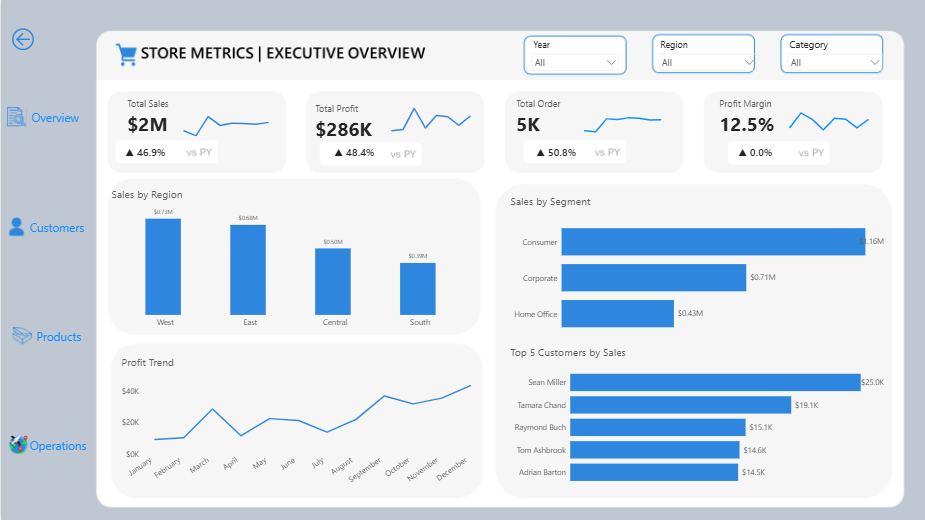

This screenshot's page, from the dashboard's own definition file:
{"tool":"powerbi","page":{"name":"Executive Overview","canvas":[1920,1080],"ordinal":0},"visuals":[{"type":"group","id":"g1","title":"Group 1","box":[244.1,185.8,323.9,116.6],"z":0},{"type":"cardVisual","fields":{"Data":["Dax Measures.Total Sales"]},"box":[244.1,185.8,218.2,116.6],"z":0,"group":"g1"},{"type":"cardVisual","fields":{"Data":["Dax Measures.Profit Margin"]},"box":[1471,185.8,218.2,116.6],"z":0,"group":"g2"},{"type":"cardVisual","fields":{"Data":["Dax Measures.Total Order"]},"box":[1051.9,185.8,218.2,116.6],"z":1000,"group":"g3"},{"type":"cardVisual","fields":{"Data":["Dax Measures.YOY Sales"]},"box":[222.5,272.2,196.6,88.6],"z":1000},{"type":"cardVisual","fields":{"Data":["Dax Measures.Total Profit"]},"box":[633.4,197.9,217.7,116.3],"z":2000,"group":"g4"},{"type":"cardVisual","fields":{"Data":["Dax Measures.YOY Profit Margin"]},"box":[1492.6,272.2,196.6,88.6],"z":2000},{"type":"cardVisual","fields":{"Data":["Dax Measures.YOY Order"]},"box":[1073.5,272.2,196.6,88.6],"z":3000},{"type":"lineChart","fields":{"Y":["Dax Measures.Total Sales"],"Category":["Orders.Order Date.Variation.Date Hierarchy.Month"]},"box":[365.1,216.1,202.9,74.2],"z":3001,"group":"g1"},{"type":"cardVisual","fields":{"Data":["Dax Measures.YOY Profit"]},"box":[654.5,272.2,196.6,88.6],"z":4000},{"type":"lineChart","title":"Profit Trend","fields":{"Category":["Orders.Order Date.Variation.Date Hierarchy.Year","Orders.Order Date.Variation.Date Hierarchy.Quarter","Orders.Order Date.Variation.Date Hierarchy.Month","Orders.Order Date.Variation.Date Hierarchy.Day"],"Y":["Dax Measures.Total Profit"]},"box":[244.9,737.3,757.1,287],"z":5000},{"type":"clusteredColumnChart","title":" Sales by Region","fields":{"Y":["Dax Measures.Total Sales"],"Category":["States.Region"]},"box":[223.3,389.5,761.6,300.2],"z":6000},{"type":"clusteredBarChart","title":" Sales by  Segment","fields":{"Y":["Dax Measures.Total Sales"],"Category":["Customers.Customer Segment"]},"box":[1051.5,403.3,784.3,314.2],"z":7000},{"type":"clusteredBarChart","title":"Top 5 Customers by Sales","fields":{"Category":["Customers.Customer Name"],"Y":["Dax Measures.Total Sales"]},"box":[1051.9,717.1,784.1,306.7],"z":8000},{"type":"slicer","fields":{"Values":["Orders.Order Date.Variation.Date Hierarchy.Year"]},"box":[1091.1,76.7,200.4,89.1],"z":9000},{"type":"slicer","fields":{"Values":["Products.Category"]},"box":[1620,75.6,216,88.6],"z":10000},{"type":"slicer","fields":{"Values":["States.Region"]},"box":[1353.4,76.7,222.7,71.8],"z":11000},{"type":"actionButton","box":[5,199.6,181.9,90.9],"z":13000},{"type":"actionButton","box":[5,655.7,181.9,85.9],"z":14000},{"type":"actionButton","box":[5.6,880.8,180.6,86.6],"z":15000},{"type":"group","id":"g2","title":"Group 2","box":[1471,185.8,340.2,116.6],"z":16000},{"type":"group","id":"g3","title":"Group 3","box":[1051.9,185.8,331.2,116.6],"z":17000},{"type":"group","id":"g4","title":"Group 4","box":[633.4,197.9,351.3,116.3],"z":18000},{"type":"actionButton","box":[4.4,429.8,183.1,86.6],"z":19000},{"type":"lineChart","fields":{"Y":["Dax Measures.Total Profit"],"Category":["Orders.Order Date.Variation.Date Hierarchy.Month"]},"box":[794.2,210.3,190.5,91.5],"z":19001,"group":"g4"},{"type":"lineChart","fields":{"Category":["Orders.Order Date.Variation.Date Hierarchy.Month"],"Y":["Dax Measures.Profit Margin"]},"box":[1620.7,210.3,190.5,79.2],"z":19002,"group":"g2"},{"type":"lineChart","fields":{"Category":["Orders.Order Date.Variation.Date Hierarchy.Month"],"Y":["Dax Measures.Total Order"]},"box":[1197.5,227.7,185.6,61.9],"z":19003,"group":"g3"}]}

Visuals, with their boxes on the page's 1920x1080 design canvas (x1, y1, x2, y2). These are canvas units, not pixel positions in the 925x520 screenshot, which may show the page scaled, cropped or inside an application window:
"Group 1" group: region(244, 186, 568, 302)
cardVisual - Dax Measures.Total Sales: region(244, 186, 462, 302)
cardVisual - Dax Measures.Profit Margin: region(1471, 186, 1689, 302)
cardVisual - Dax Measures.Total Order: region(1052, 186, 1270, 302)
cardVisual - Dax Measures.YOY Sales: region(222, 272, 419, 361)
cardVisual - Dax Measures.Total Profit: region(633, 198, 851, 314)
cardVisual - Dax Measures.YOY Profit Margin: region(1493, 272, 1689, 361)
cardVisual - Dax Measures.YOY Order: region(1074, 272, 1270, 361)
lineChart - Dax Measures.Total Sales x Orders.Order Date.Variation.Date Hierarchy.Month: region(365, 216, 568, 290)
cardVisual - Dax Measures.YOY Profit: region(654, 272, 851, 361)
"Profit Trend" lineChart: region(245, 737, 1002, 1024)
" Sales by Region" clusteredColumnChart: region(223, 390, 985, 690)
" Sales by  Segment" clusteredBarChart: region(1052, 403, 1836, 718)
"Top 5 Customers by Sales" clusteredBarChart: region(1052, 717, 1836, 1024)
slicer - Orders.Order Date.Variation.Date Hierarchy.Year: region(1091, 77, 1292, 166)
slicer - Products.Category: region(1620, 76, 1836, 164)
slicer - States.Region: region(1353, 77, 1576, 148)
actionButton: region(5, 200, 187, 290)
actionButton: region(5, 656, 187, 742)
actionButton: region(6, 881, 186, 967)
"Group 2" group: region(1471, 186, 1811, 302)
"Group 3" group: region(1052, 186, 1383, 302)
"Group 4" group: region(633, 198, 985, 314)
actionButton: region(4, 430, 188, 516)
lineChart - Dax Measures.Total Profit x Orders.Order Date.Variation.Date Hierarchy.Month: region(794, 210, 985, 302)
lineChart - Orders.Order Date.Variation.Date Hierarchy.Month x Dax Measures.Profit Margin: region(1621, 210, 1811, 290)
lineChart - Orders.Order Date.Variation.Date Hierarchy.Month x Dax Measures.Total Order: region(1198, 228, 1383, 290)
